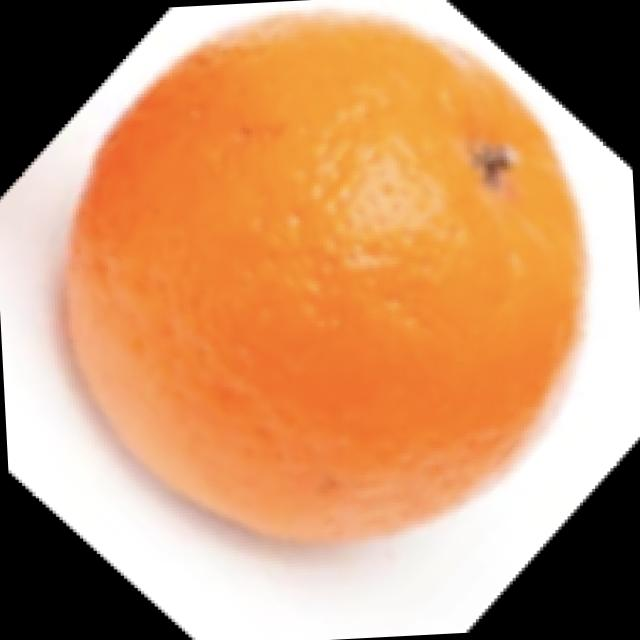orange: (8, 0, 640, 599)
